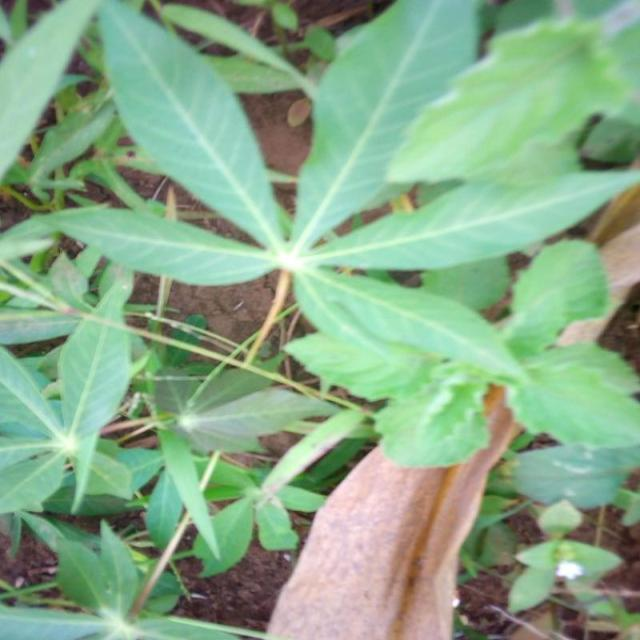cassava leaf: (0, 0, 639, 639), (96, 0, 289, 251)
